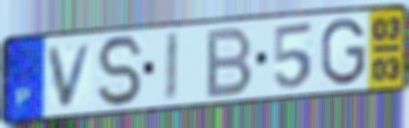5: (272, 19, 316, 91)
B: (203, 24, 256, 101)
G: (319, 16, 368, 88)
I: (163, 29, 181, 105)
S: (94, 33, 147, 110)
V: (45, 40, 96, 110)
